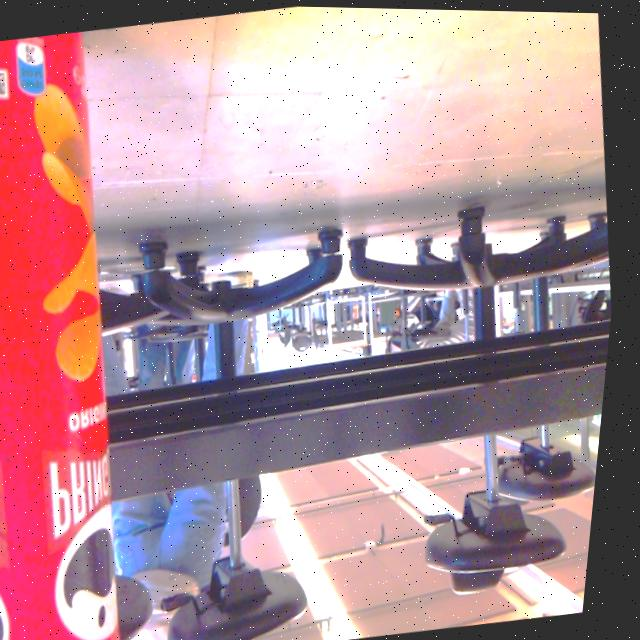redpringles: (0, 26, 194, 640)
